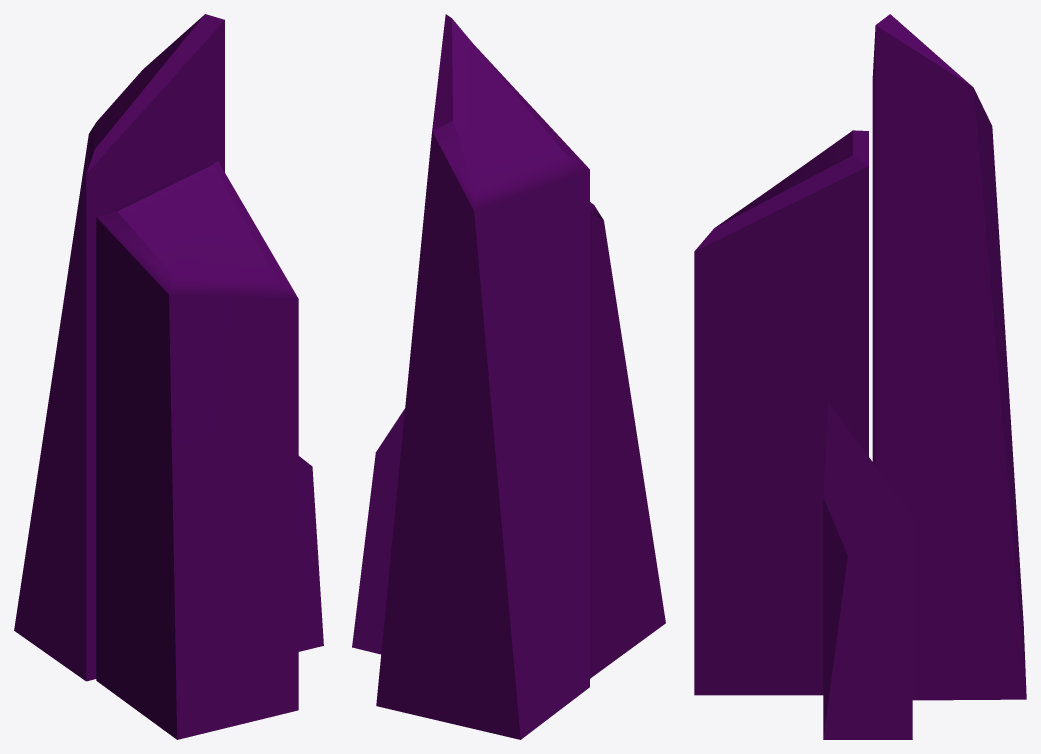
The model's file is Crystal_Large.fbx.
The picture shows the model from 3 angles, left to right: view 1: azimuth 30°, elevation 25°; view 2: azimuth 150°, elevation 25°; view 3: azimuth 270°, elevation 25°; orthographic projection. The views are drawn at different scales.
Parts seen in each view (by area): view 1: pCube292; view 2: pCube292; view 3: pCube292.
Boxes of the visible parts, left/top/right/bottom form: pCube292: left=14, top=14, right=323, bottom=739; pCube292: left=352, top=14, right=665, bottom=739; pCube292: left=694, top=14, right=1026, bottom=739.
Bounding box in the file's own units: 82.66 × 230 × 102.
